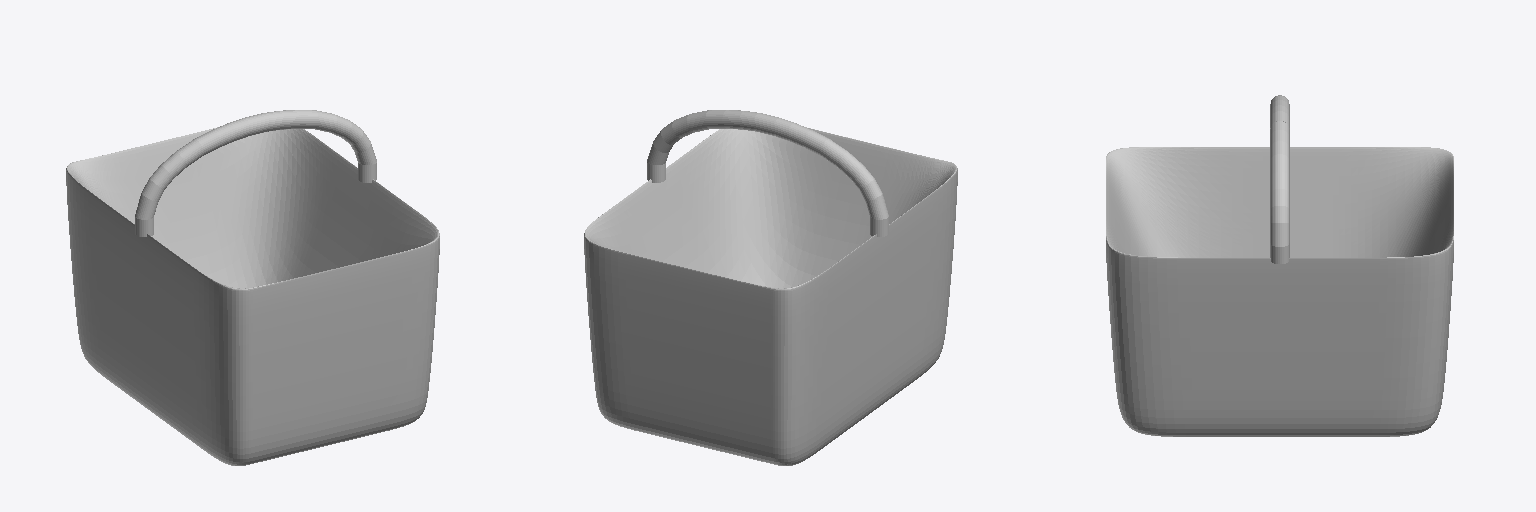
Rendered from basket.obj.
The picture shows the model from 3 angles: view 1: azimuth 30°, elevation 25°; view 2: azimuth 150°, elevation 25°; view 3: azimuth 270°, elevation 25°; orthographic projection.
Visible parts, largest first — view 1: Cube_Cube.002, Cylinder, Cylinder.001; view 2: Cube_Cube.002, Cylinder, Cylinder.001; view 3: Cube_Cube.002, Cylinder.001.
Boxes of the visible parts, box(x1,y1,x2,y2) form: Cube_Cube.002: box(66, 127, 439, 465); Cylinder: box(135, 113, 270, 236); Cylinder.001: box(266, 110, 376, 182); Cube_Cube.002: box(584, 127, 957, 465); Cylinder: box(753, 113, 888, 236); Cylinder.001: box(647, 110, 757, 182); Cube_Cube.002: box(1106, 147, 1453, 436); Cylinder.001: box(1270, 121, 1289, 263).
Bounding box in the file's own units: 1.18 × 1.31 × 1.48.